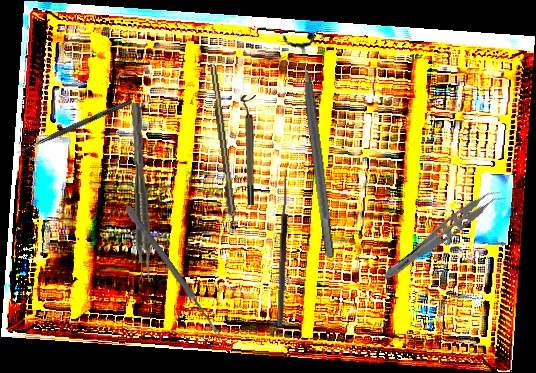Fixation Ring: (281, 29, 347, 261), (241, 95, 256, 205)
Hook Surgical: (15, 97, 133, 157), (209, 63, 239, 241), (269, 168, 290, 327)
Surgical Spoon: (123, 204, 226, 342)
Tissue Forceps: (380, 181, 508, 291), (131, 102, 153, 283)
